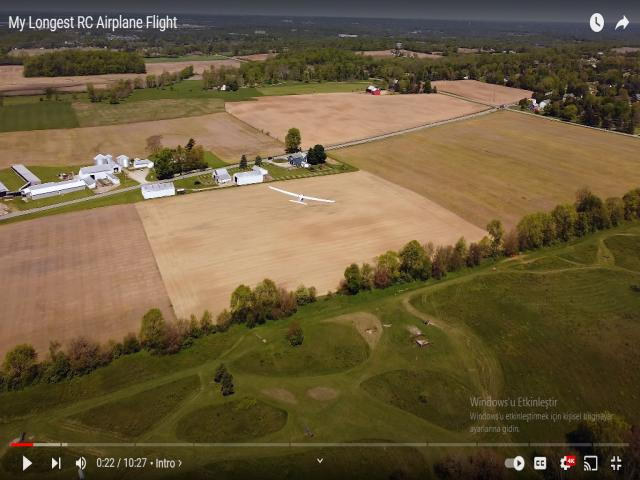plane: (268, 183, 336, 206)
